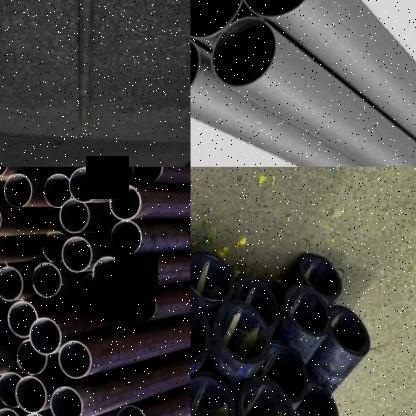pipe: (210, 13, 278, 88), (216, 300, 270, 364), (260, 339, 308, 403), (284, 284, 332, 338), (235, 278, 282, 328), (238, 375, 295, 416), (190, 251, 233, 304), (190, 369, 235, 416), (329, 306, 370, 356), (191, 0, 242, 40), (300, 254, 342, 300), (296, 378, 338, 416), (239, 0, 318, 20), (190, 298, 212, 366), (58, 340, 92, 379), (29, 317, 62, 354), (91, 256, 124, 293), (15, 376, 47, 412), (110, 220, 142, 256), (7, 302, 38, 338), (31, 262, 62, 298), (58, 198, 90, 232), (17, 340, 48, 375), (69, 167, 100, 202), (62, 237, 92, 272), (125, 289, 156, 322), (110, 186, 140, 220), (4, 173, 33, 208), (50, 386, 82, 416), (80, 274, 110, 306), (43, 174, 71, 208), (0, 266, 23, 300), (42, 230, 66, 262), (0, 372, 20, 407), (132, 166, 162, 184), (0, 177, 14, 208), (116, 404, 147, 416), (58, 167, 86, 175), (0, 262, 7, 292), (0, 408, 22, 416), (0, 167, 8, 178), (22, 413, 51, 416)
